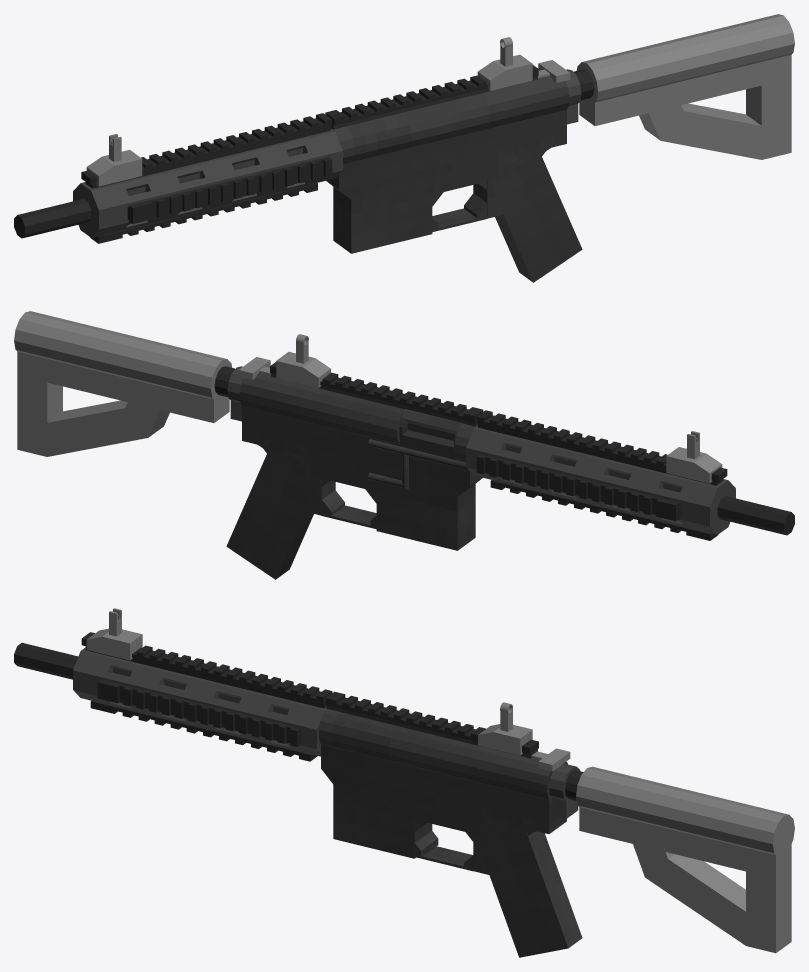
The model's file is CBR-27 Object.obj.
3 views of the same model, one above another, from view 1: azimuth 30°, elevation 25°; view 2: azimuth 150°, elevation 25°; view 3: azimuth 330°, elevation 25° (orthographic).
Visible parts, largest first — view 1: cube, octagon, cylinder, hexadecagon, rail_piece, base, body; view 2: cube, octagon, cylinder, hexadecagon, rail_piece, base, body; view 3: cube, octagon, cylinder, hexadecagon, rail_piece, base, body.
Part boxes in pixels (x1,y1,x2,y2): cube: [85, 60, 582, 282]; octagon: [14, 54, 791, 238]; cylinder: [565, 14, 794, 105]; hexadecagon: [331, 37, 569, 163]; rail_piece: [81, 65, 538, 243]; base: [86, 45, 532, 186]; body: [81, 118, 331, 222]; cube: [226, 357, 723, 579]; octagon: [17, 351, 794, 535]; cylinder: [14, 311, 468, 489]; hexadecagon: [239, 334, 477, 460]; rail_piece: [270, 362, 727, 540]; base: [276, 342, 722, 483]; body: [476, 415, 727, 520]; cube: [85, 646, 582, 957]; octagon: [14, 642, 791, 953]; cylinder: [549, 763, 794, 857]; hexadecagon: [318, 702, 567, 802]; rail_piece: [81, 632, 538, 761]; base: [86, 608, 532, 755]; body: [81, 642, 325, 745].
Size of the model in its own units: 1.49 by 0.4545 by 0.1188.
Materials: 6 (6 with a texture image).
